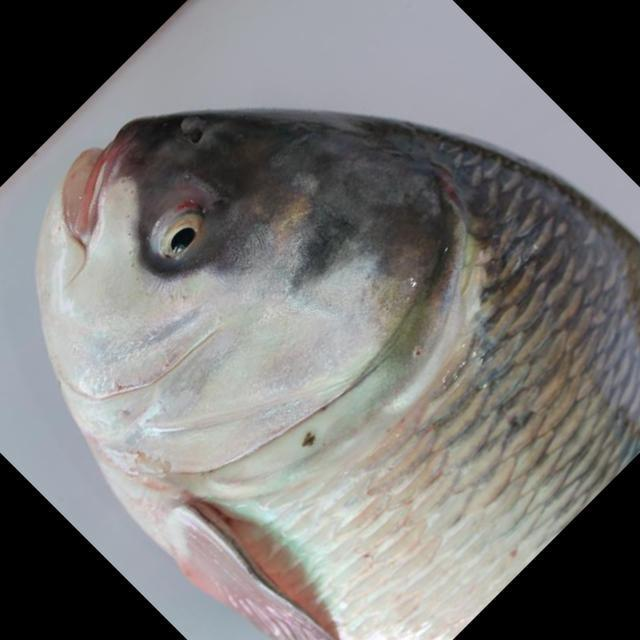Catla: (38, 108, 640, 640)
